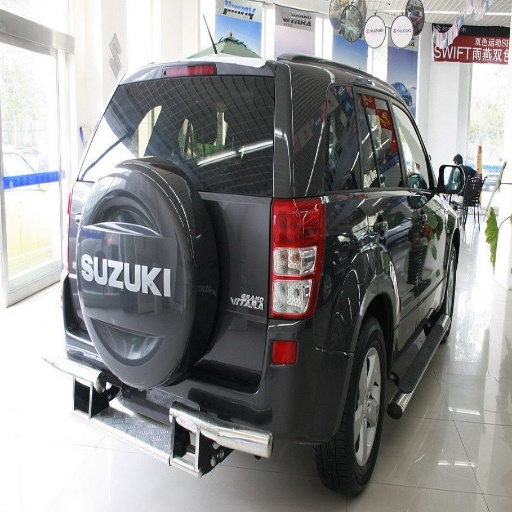back_bumper: (197, 339, 353, 455), (66, 325, 155, 387)
back_right_door: (320, 81, 414, 206)
tailgate: (84, 223, 194, 352)
trunk: (181, 196, 429, 379)
